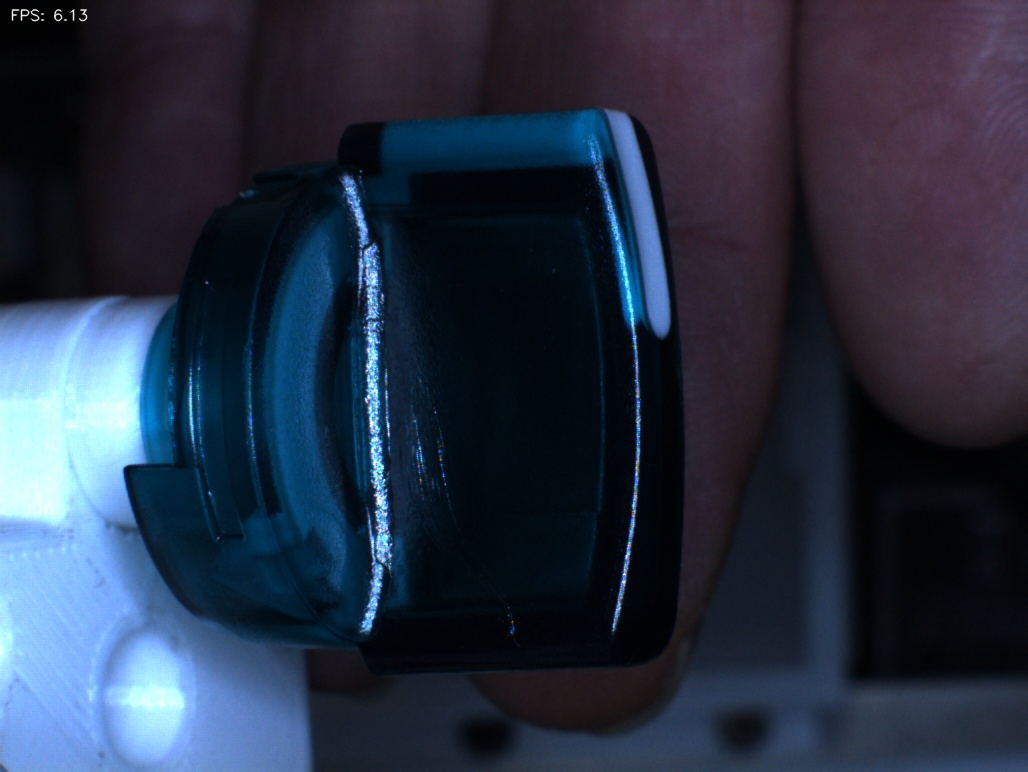Givrage: (396, 360, 534, 655)
